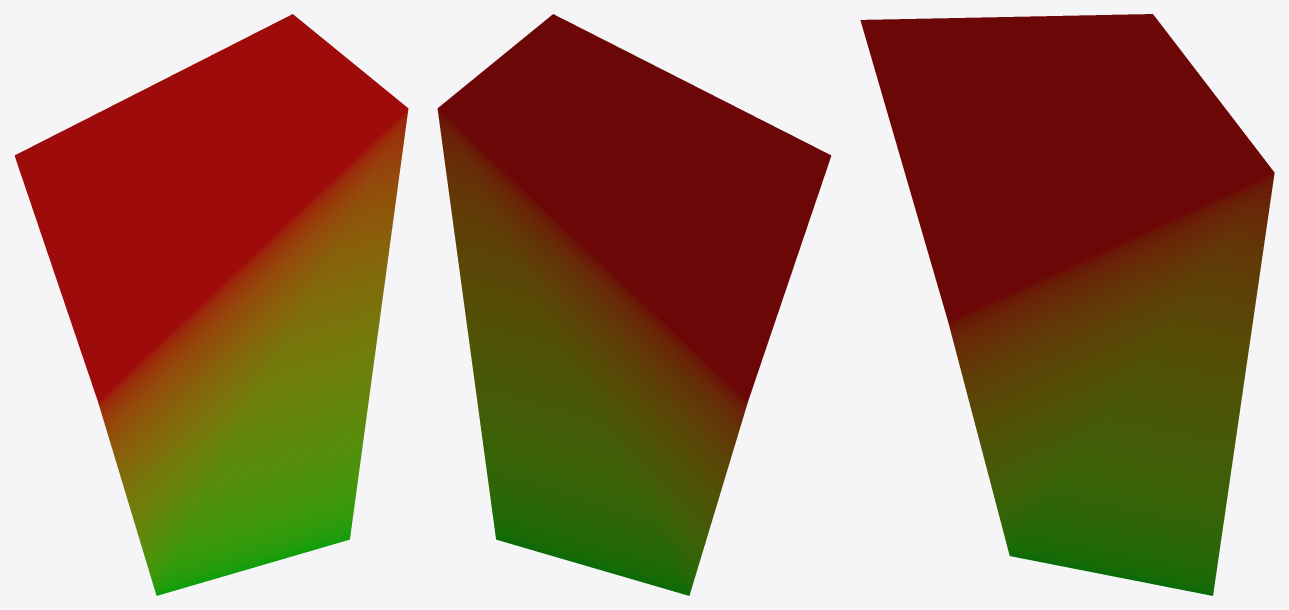
Rendered from Raspberry_LOD4_Var10_wf0oefeja.fbx.
The picture shows the model from 3 angles, left to right: view 1: azimuth 30°, elevation 25°; view 2: azimuth 150°, elevation 25°; view 3: azimuth 330°, elevation 25°; orthographic projection. The views are drawn at different scales.
Parts seen in each view (by area): view 1: _ov0v_Var10_LOD4; view 2: _ov0v_Var10_LOD4; view 3: _ov0v_Var10_LOD4.
Boxes of the visible parts, x1,y1,x2,y2 form: _ov0v_Var10_LOD4: [14, 14, 408, 595]; _ov0v_Var10_LOD4: [437, 14, 831, 595]; _ov0v_Var10_LOD4: [860, 14, 1274, 595].
Bounding box in the file's own units: 30.79 × 40.98 × 4.88e-06.
